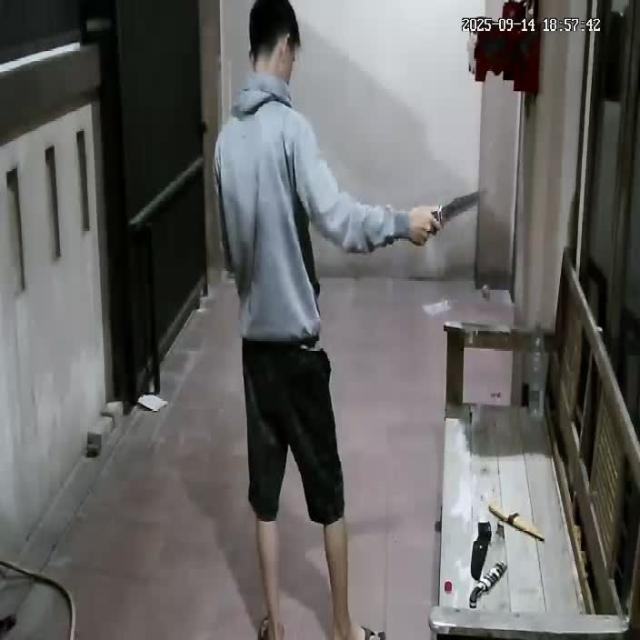senjata_tajam: (435, 188, 487, 229)
